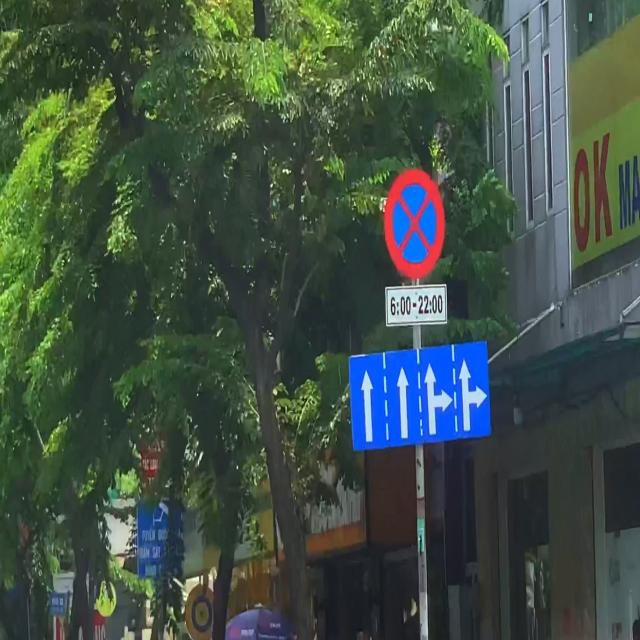Cam dung va do: (384, 168, 445, 279)
